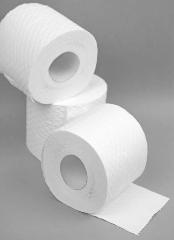paper: (41, 102, 148, 214), (0, 2, 98, 104), (26, 73, 108, 161), (90, 183, 170, 236)
